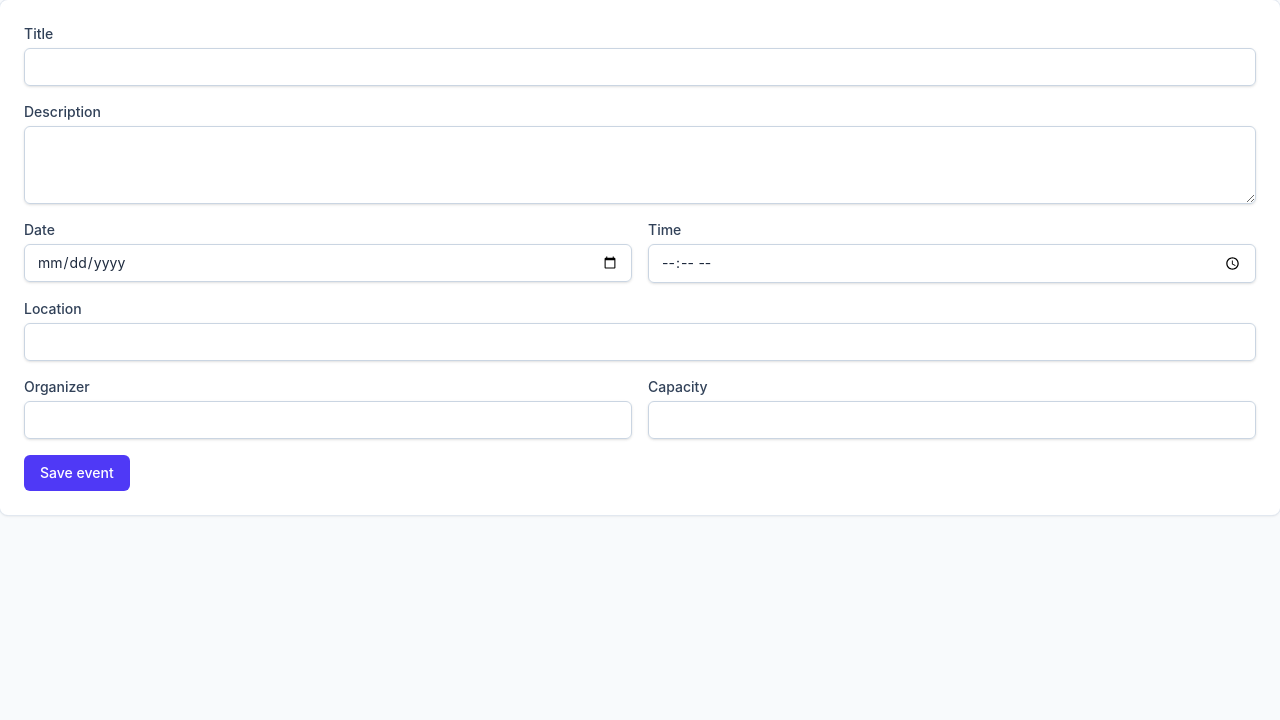
Test: EventForm › shows validation errors and does not submit an empty form
Click the button "Save event" at (77, 473), box [24,455,130,491]
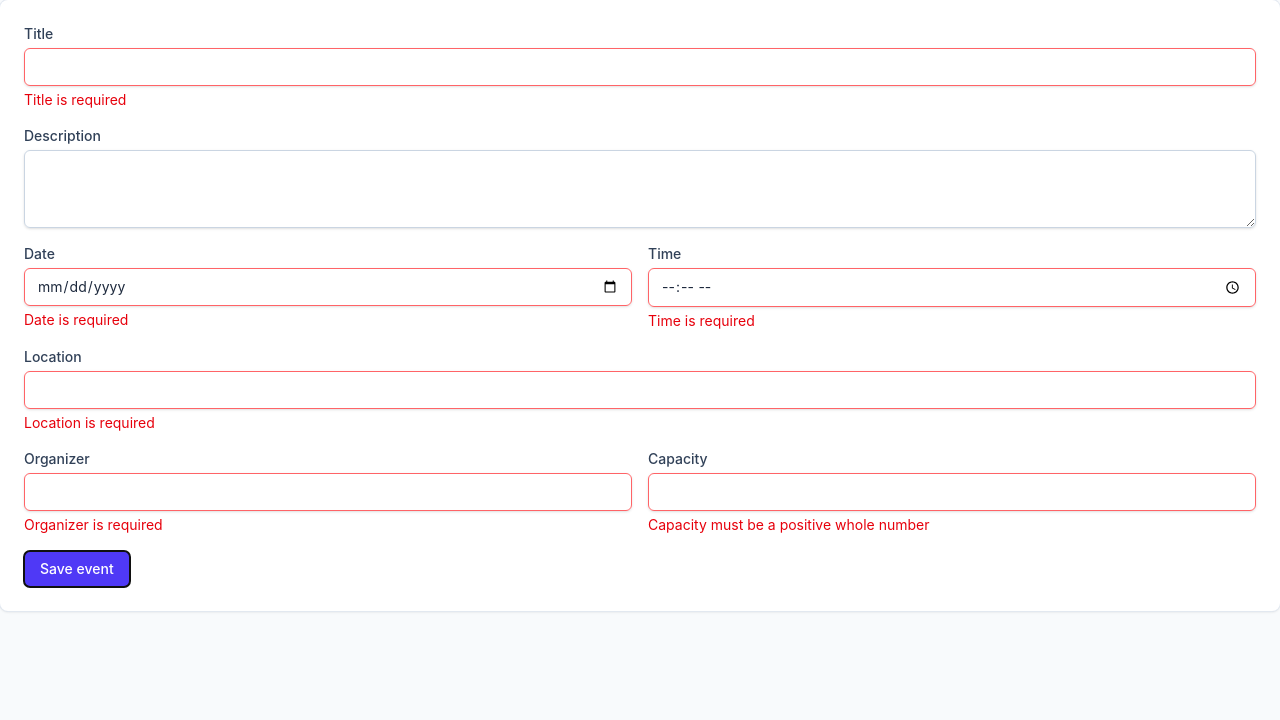
Now the text "Title is required" is shown, box [24,91,126,108]
Now the text "Date is required" is shown, box [24,311,128,328]
Now the text "Capacity must be a positive whole number" is shown, box [648,516,930,533]
